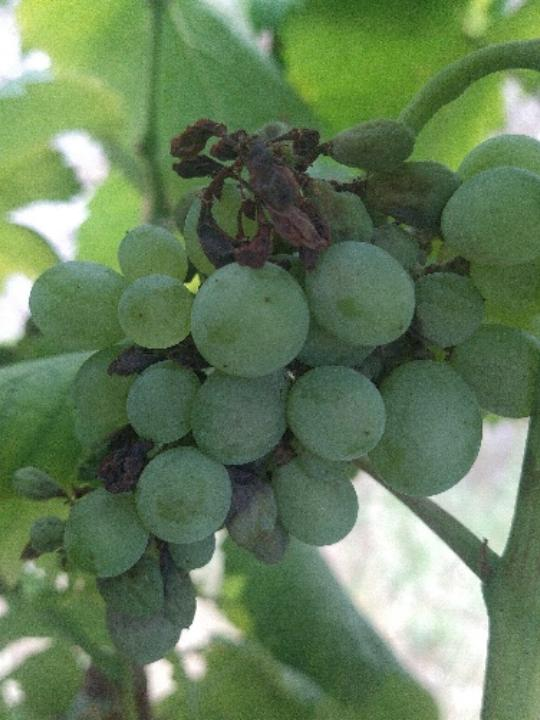grape: (6, 113, 540, 674)
